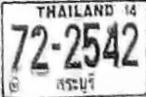2: (30, 24, 49, 70), (63, 23, 81, 69), (120, 21, 138, 66)
4: (102, 22, 118, 66)
5: (82, 22, 100, 67)
7: (10, 24, 28, 70)
SRI: (53, 72, 97, 95)
